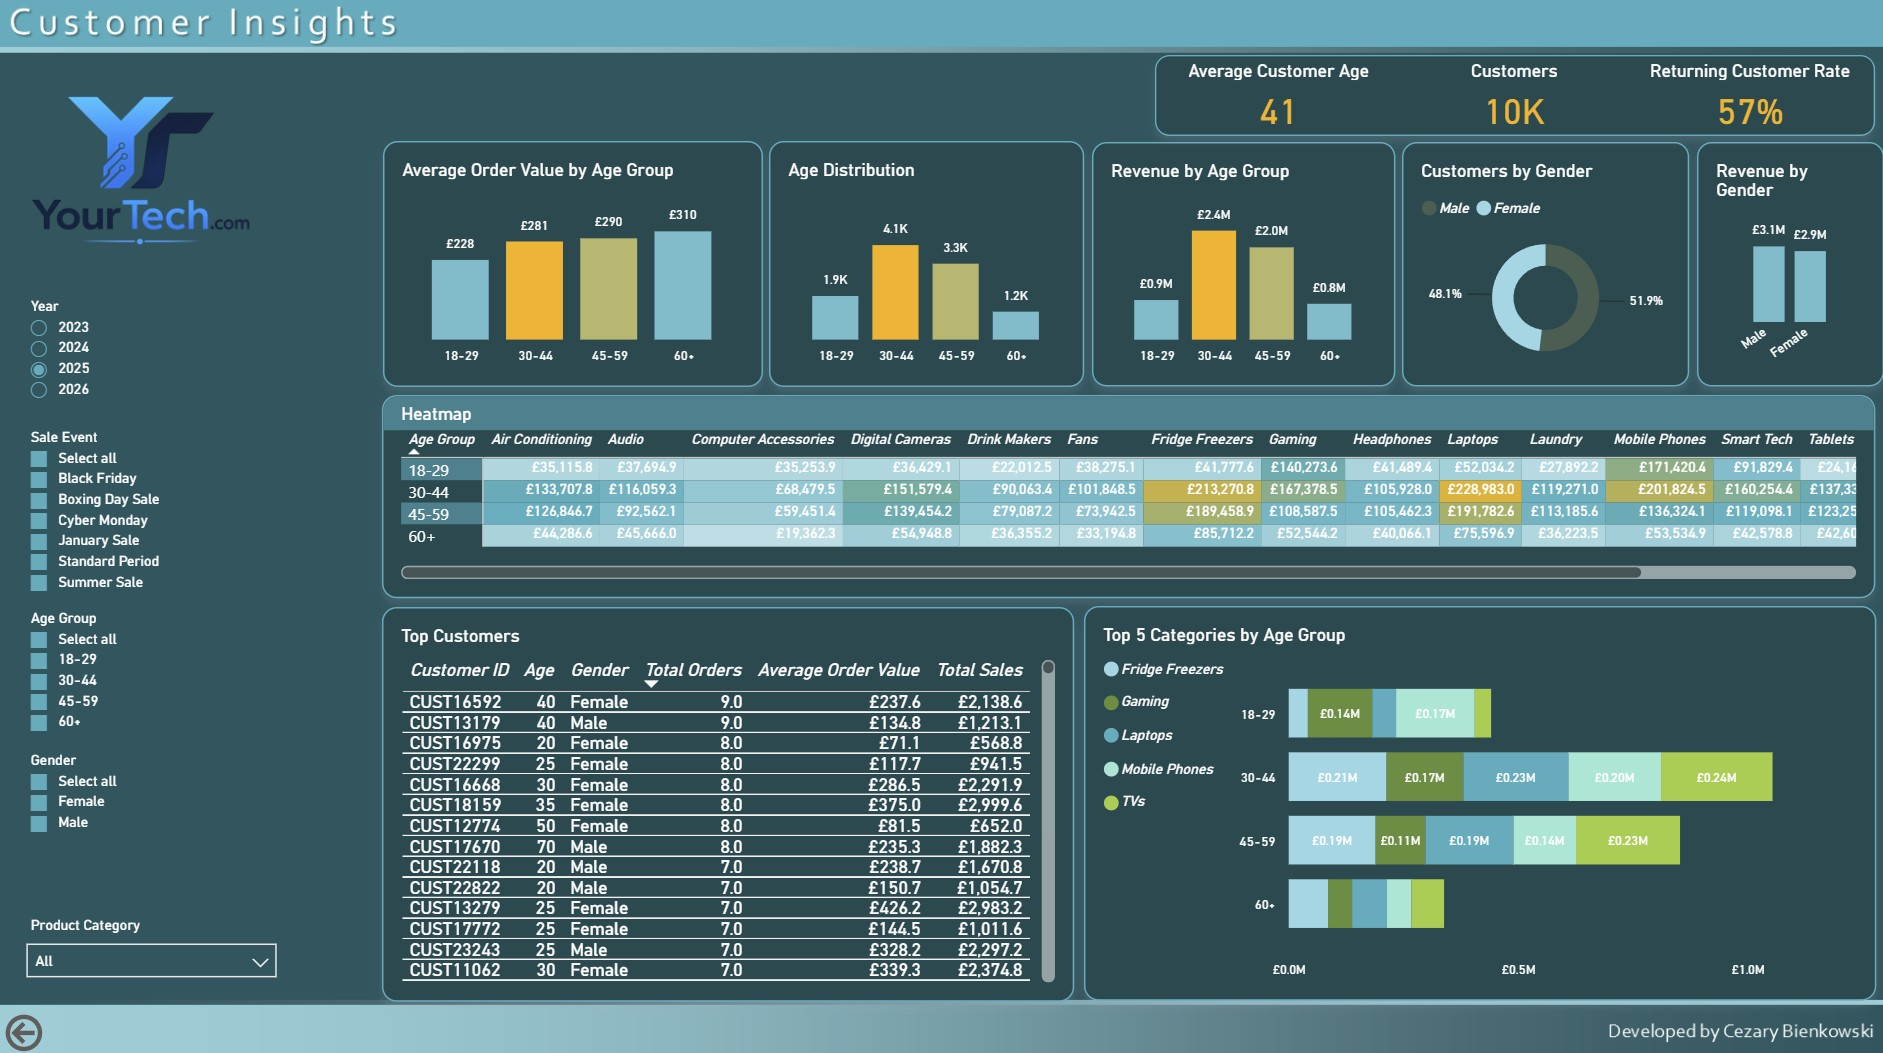

What the dashboard file says about the page in this screenshot:
{"tool":"powerbi","page":{"name":"Customer Insights","canvas":[1280,720],"ordinal":3},"visuals":[{"type":"donutChart","fields":{"Category":["dCustomers.Gender"],"Y":["_Measures.Customers"]},"box":[952.8,97.5,195,166.2],"z":0},{"type":"clusteredColumnChart","title":"Revenue by Gender","fields":{"Y":["_Measures.Total Sales"],"Category":["dCustomers.Gender"]},"box":[1153,97.5,127,166.2],"z":1000},{"type":"pivotTable","title":"Heatmap","fields":{"Values":["_Measures.Total Sales"],"Rows":["dCustomers.Age Group"],"Columns":["dProducts.Product Category"]},"box":[260.3,269.7,1013.9,138.5],"z":2000},{"type":"clusteredColumnChart","title":"Age Distribution","fields":{"Category":["dCustomers.Age Group"],"Y":["_Measures.Customers"]},"box":[522.9,96.9,214,166.9],"z":3000},{"type":"clusteredColumnChart","title":"Revenue by Age Group","fields":{"Category":["dCustomers.Age Group"],"Y":["_Measures.Total Sales"]},"box":[742.1,97.5,206.1,166.2],"z":4000},{"type":"clusteredColumnChart","fields":{"Category":["dCustomers.Age Group"],"Y":["_Measures.Average Order Value"]},"box":[260.4,96.9,257.8,166.9],"z":5000},{"type":"barChart","title":"Top 5 Categories by Age Group","fields":{"Series":["dProducts.Product Category"],"Category":["dCustomers.Age Group"],"Y":["_Measures.Total Sales"]},"box":[736.9,412.9,537.9,268.3],"z":6000},{"type":"tableEx","title":"Top Customers","fields":{"Values":["dCustomers.Customer ID","dCustomers.Age","dCustomers.Gender","_Measures.Total Orders","_Measures.Average Order Value","_Measures.Total Sales"]},"box":[260.3,413.2,470.2,268.3],"z":7000},{"type":"cardVisual","fields":{"Data":["_Measures.Average Customer Age","_Measures.Customers"]},"box":[785.3,38.6,488.8,55],"z":8000},{"type":"slicer","fields":{"Values":["dDate.Year"]},"box":[13.7,203.6,179.6,82.9],"z":9000},{"type":"slicer","fields":{"Values":["dSale Event.Sale_Event_Name"]},"box":[13.7,292.8,179.6,116.8],"z":10000},{"type":"slicer","fields":{"Values":["dProducts.Product Category"]},"box":[13.7,623.8,180.3,42.5],"z":11000},{"type":"slicer","fields":{"Values":["dCustomers.Age Group"]},"box":[13.7,415.9,180.3,89.4],"z":12000},{"type":"slicer","fields":{"Values":["dCustomers.Gender"]},"box":[13.7,511.7,180,73.9],"z":13000},{"type":"actionButton","box":[0,685.7,100.2,33.8],"z":14000}]}

Visuals, with their boxes in screenshot pixels (x1, y1, x2, y2), scaled from the page's 1280x720 canvas onto the 1883x1053 screenshot:
donutChart - dCustomers.Gender x _Measures.Customers: [x1=1402, y1=143, x2=1689, y2=386]
"Revenue by Gender" clusteredColumnChart: [x1=1696, y1=143, x2=1882, y2=386]
"Heatmap" pivotTable: [x1=383, y1=394, x2=1874, y2=597]
"Age Distribution" clusteredColumnChart: [x1=769, y1=142, x2=1084, y2=386]
"Revenue by Age Group" clusteredColumnChart: [x1=1092, y1=143, x2=1395, y2=386]
clusteredColumnChart - dCustomers.Age Group x _Measures.Average Order Value: [x1=383, y1=142, x2=762, y2=386]
"Top 5 Categories by Age Group" barChart: [x1=1084, y1=604, x2=1875, y2=996]
"Top Customers" tableEx: [x1=383, y1=604, x2=1075, y2=997]
cardVisual - _Measures.Average Customer Age x _Measures.Customers: [x1=1155, y1=56, x2=1874, y2=137]
slicer - dDate.Year: [x1=20, y1=298, x2=284, y2=419]
slicer - dSale Event.Sale_Event_Name: [x1=20, y1=428, x2=284, y2=599]
slicer - dProducts.Product Category: [x1=20, y1=912, x2=285, y2=974]
slicer - dCustomers.Age Group: [x1=20, y1=608, x2=285, y2=739]
slicer - dCustomers.Gender: [x1=20, y1=748, x2=285, y2=856]
actionButton: [x1=0, y1=1003, x2=147, y2=1052]
